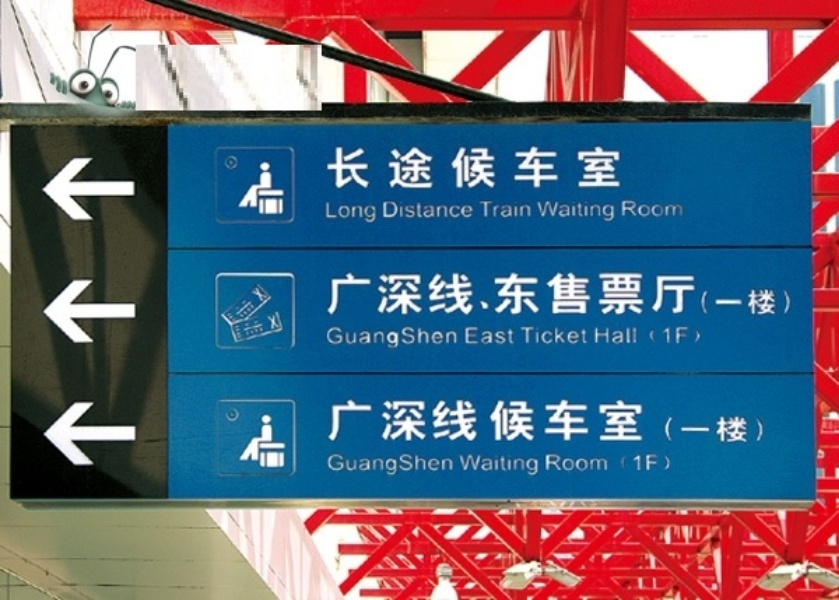text: (337, 399, 352, 447), (353, 399, 368, 447), (369, 399, 384, 447), (385, 399, 400, 447), (401, 399, 416, 447), (417, 399, 432, 447), (433, 399, 448, 447), (449, 399, 464, 447), (465, 399, 480, 447), (481, 399, 496, 447), (497, 399, 512, 447), (513, 399, 528, 447), (529, 399, 544, 447), (545, 399, 560, 447), (561, 399, 576, 447), (577, 399, 592, 447), (593, 399, 608, 447), (609, 399, 624, 447), (625, 399, 640, 447), (337, 146, 352, 191), (353, 146, 368, 191), (369, 146, 384, 191), (385, 146, 400, 191), (401, 146, 416, 191), (417, 146, 432, 191), (433, 146, 448, 191), (449, 146, 464, 191), (465, 146, 480, 191), (481, 146, 496, 191), (497, 146, 512, 191), (513, 146, 528, 191), (529, 146, 544, 191), (545, 146, 560, 191), (561, 146, 576, 191), (577, 146, 592, 191), (593, 146, 608, 191), (609, 146, 624, 191), (337, 273, 352, 318), (353, 273, 368, 318), (369, 273, 384, 318), (385, 273, 400, 318), (401, 273, 416, 318), (417, 273, 432, 318), (433, 273, 448, 318), (449, 273, 464, 318), (465, 273, 480, 318), (481, 273, 496, 318), (497, 273, 512, 318), (513, 273, 528, 318), (529, 273, 544, 318), (545, 273, 560, 318), (561, 273, 576, 318), (577, 273, 592, 318), (593, 273, 608, 318), (609, 273, 624, 318), (625, 273, 640, 318), (641, 273, 656, 318), (657, 273, 672, 318), (673, 273, 688, 318), (324, 273, 336, 318), (325, 399, 336, 447), (673, 414, 688, 445), (689, 414, 704, 445), (705, 414, 720, 445), (721, 414, 736, 445), (737, 414, 752, 445), (326, 146, 336, 191), (705, 289, 720, 318), (721, 289, 736, 318), (737, 289, 752, 318), (753, 289, 768, 318), (769, 289, 784, 318), (337, 201, 352, 224), (353, 201, 368, 224), (337, 326, 352, 349), (353, 326, 368, 349), (369, 326, 384, 349), (385, 326, 400, 349), (401, 326, 416, 349), (417, 326, 432, 349), (433, 326, 448, 349), (337, 454, 352, 477), (353, 454, 368, 477), (369, 454, 384, 477), (385, 454, 400, 477), (401, 454, 416, 477), (417, 454, 432, 477), (433, 454, 448, 477), (465, 454, 480, 477), (481, 454, 496, 477), (497, 454, 512, 477), (513, 454, 528, 477), (753, 414, 764, 445), (545, 201, 560, 223), (561, 201, 576, 223), (577, 201, 592, 223), (593, 201, 608, 223), (662, 414, 672, 445), (593, 454, 609, 473), (465, 326, 480, 346), (481, 326, 496, 346), (497, 326, 512, 346), (529, 326, 544, 346), (545, 326, 560, 346), (561, 326, 576, 346), (609, 325, 624, 345), (785, 289, 795, 318), (481, 201, 496, 220), (497, 201, 512, 220), (513, 201, 528, 220), (545, 454, 560, 473), (561, 454, 576, 473), (577, 454, 592, 473), (689, 273, 695, 318), (385, 202, 400, 220), (401, 202, 416, 220), (417, 202, 432, 220), (433, 202, 448, 220), (449, 202, 464, 220), (625, 201, 640, 219), (641, 201, 656, 219), (657, 201, 672, 219), (625, 454, 640, 472), (641, 454, 656, 472), (657, 454, 672, 472), (595, 325, 608, 345), (625, 325, 638, 345), (657, 328, 672, 345), (673, 328, 688, 345), (689, 328, 704, 345), (325, 201, 336, 224), (577, 326, 589, 346), (326, 454, 336, 477), (529, 454, 539, 477), (369, 201, 378, 224), (449, 326, 458, 349), (641, 399, 645, 447), (328, 326, 336, 349), (465, 202, 475, 220), (673, 201, 683, 219), (537, 201, 544, 223), (609, 201, 616, 223), (521, 326, 528, 346), (648, 328, 656, 345), (700, 289, 704, 318), (449, 454, 454, 477), (459, 454, 464, 477), (620, 454, 624, 472), (529, 201, 532, 220), (621, 201, 624, 219), (513, 326, 515, 346), (382, 202, 384, 220)
